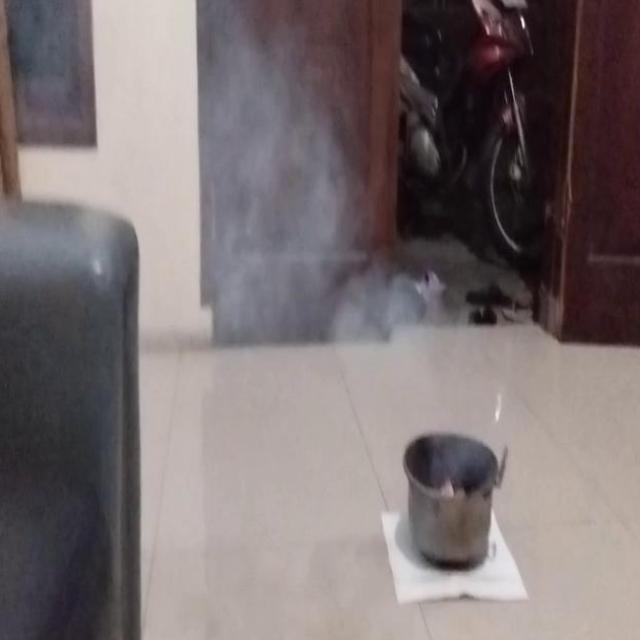fire: (164, 0, 336, 347)
